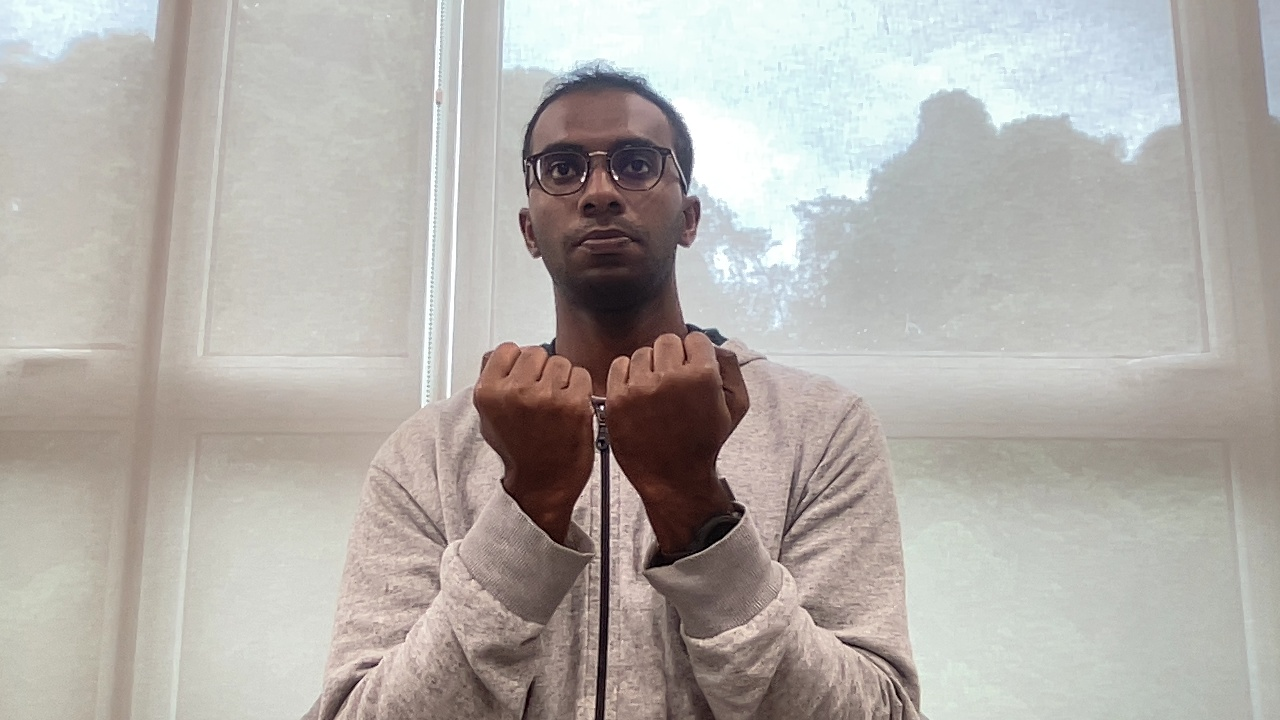finish: (467, 336, 758, 499)
